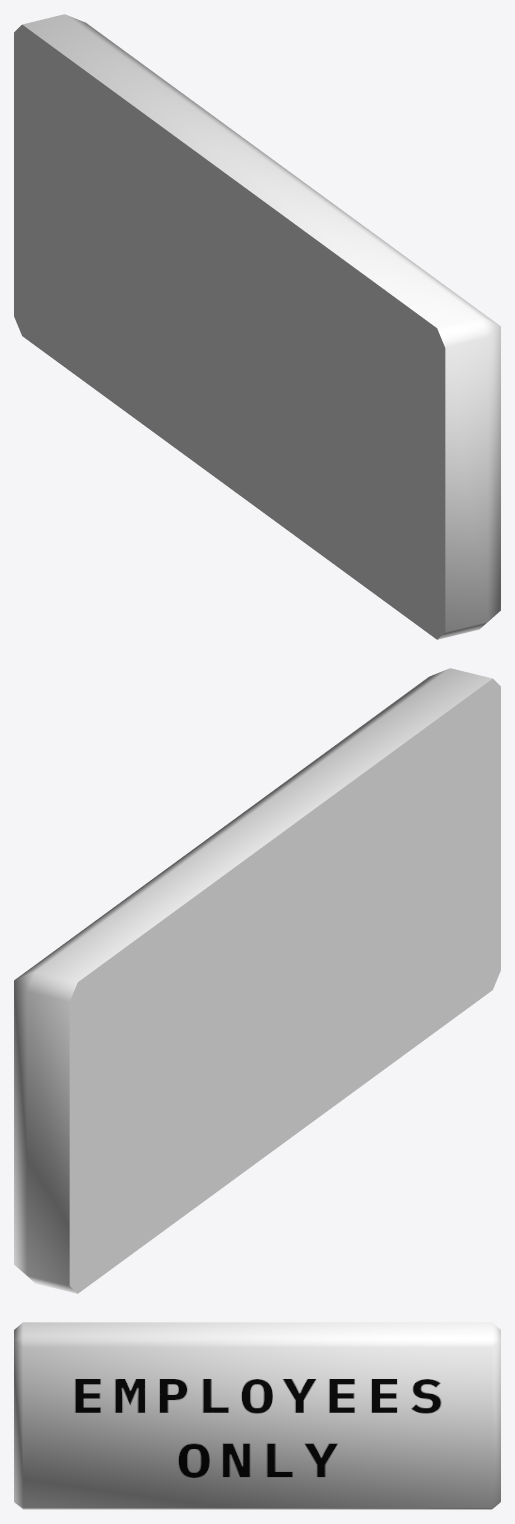
File: Sign Employees Only.fbx
3 views of the same model, one above another, from view 1: azimuth 30°, elevation 25°; view 2: azimuth 150°, elevation 25°; view 3: azimuth 270°, elevation 25° (orthographic). The views are drawn at different scales.
Visible parts, largest first — view 1: Sign Employees Only; view 2: Sign Employees Only; view 3: Sign Employees Only.
Part boxes in pixels (<box>): Sign Employees Only: <box>14,14,500,639</box>; Sign Employees Only: <box>14,668,500,1293</box>; Sign Employees Only: <box>14,1322,500,1509</box>.
Bounding box in the file's own units: 3.91 × 18.24 × 45.77.
